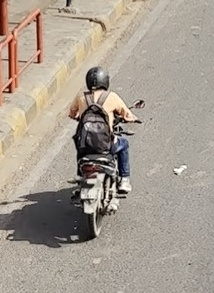BikeWithRider: (60, 62, 148, 241)
Helmet: (80, 62, 114, 94)
